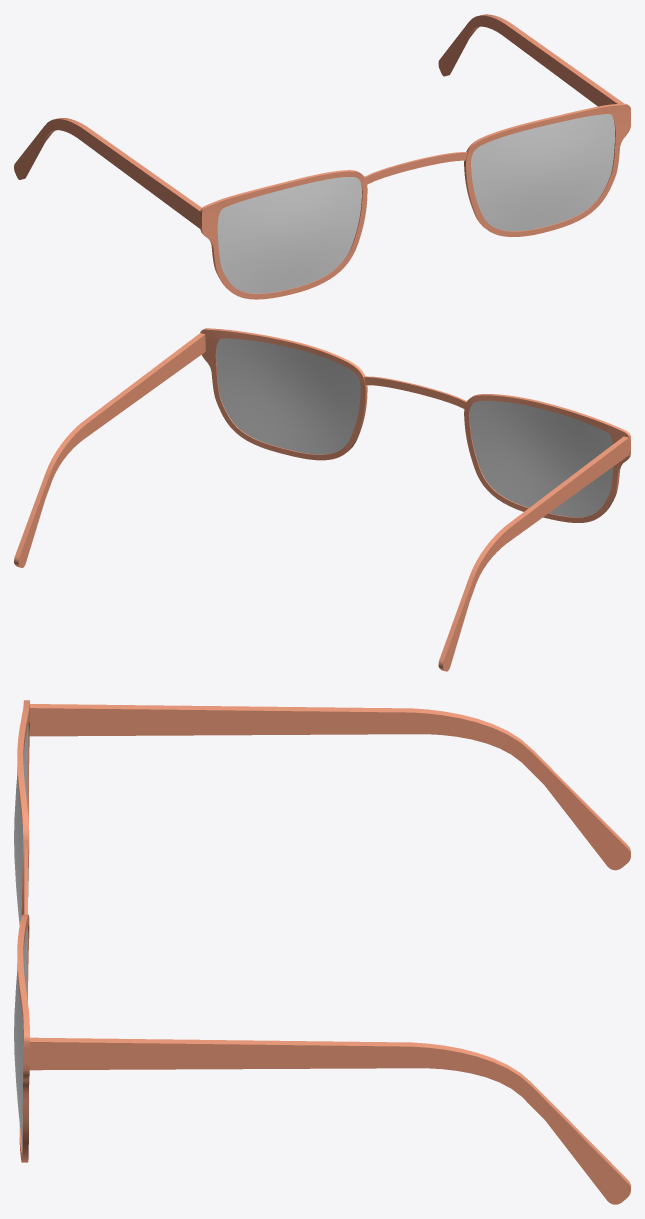
File: PRADA Glasses Wide Full Res.fbx
3 views of the same model, one above another, from view 1: azimuth 30°, elevation 25°; view 2: azimuth 150°, elevation 25°; view 3: azimuth 270°, elevation 25° (orthographic). The views are drawn at different scales.
Parts seen in each view (by area): view 1: PRADA Glasses Wide Full Res; view 2: PRADA Glasses Wide Full Res; view 3: PRADA Glasses Wide Full Res.
Boxes of the visible parts, box(x1,y1,x2,y2) form: PRADA Glasses Wide Full Res: box(14, 14, 630, 299); PRADA Glasses Wide Full Res: box(14, 328, 630, 671); PRADA Glasses Wide Full Res: box(14, 700, 630, 1204).
Size of the model in its own units: 0.1874 by 0.0471 by 0.1445.
